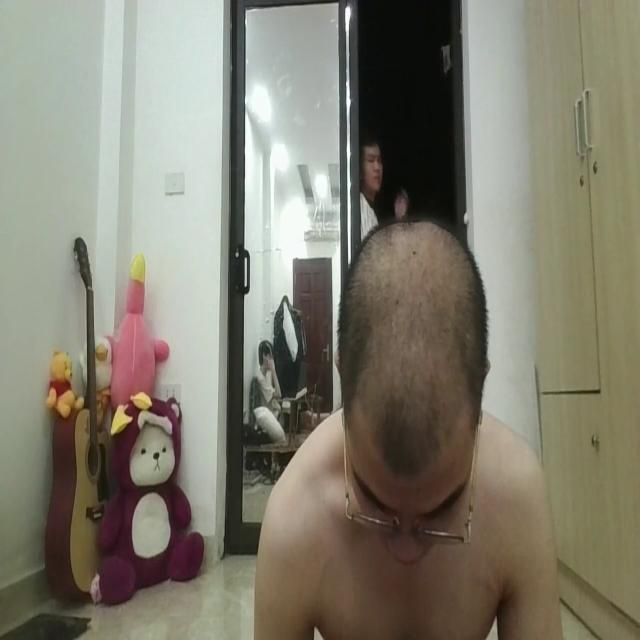extra_person: (349, 113, 402, 246), (249, 320, 295, 432)
student: (248, 212, 574, 640)
